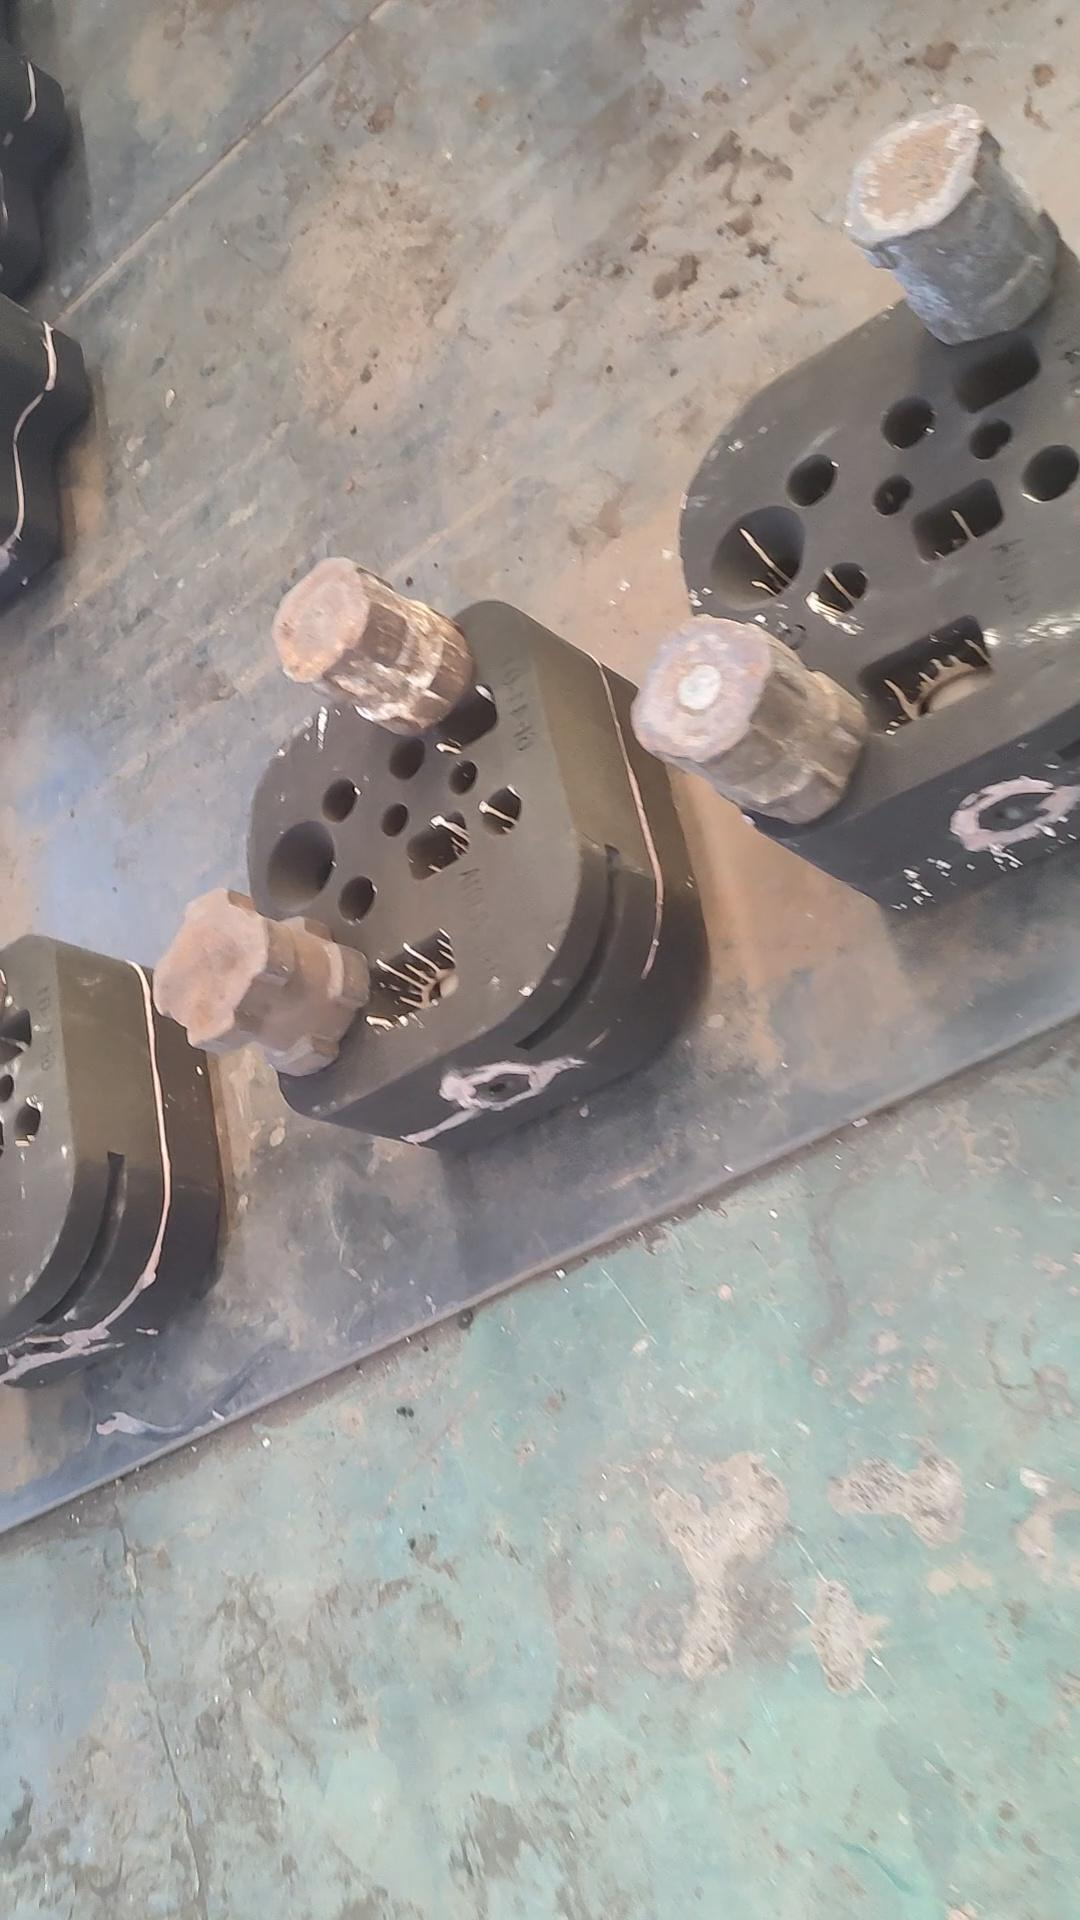pouring hole: (705, 505, 804, 605), (257, 822, 339, 913)
